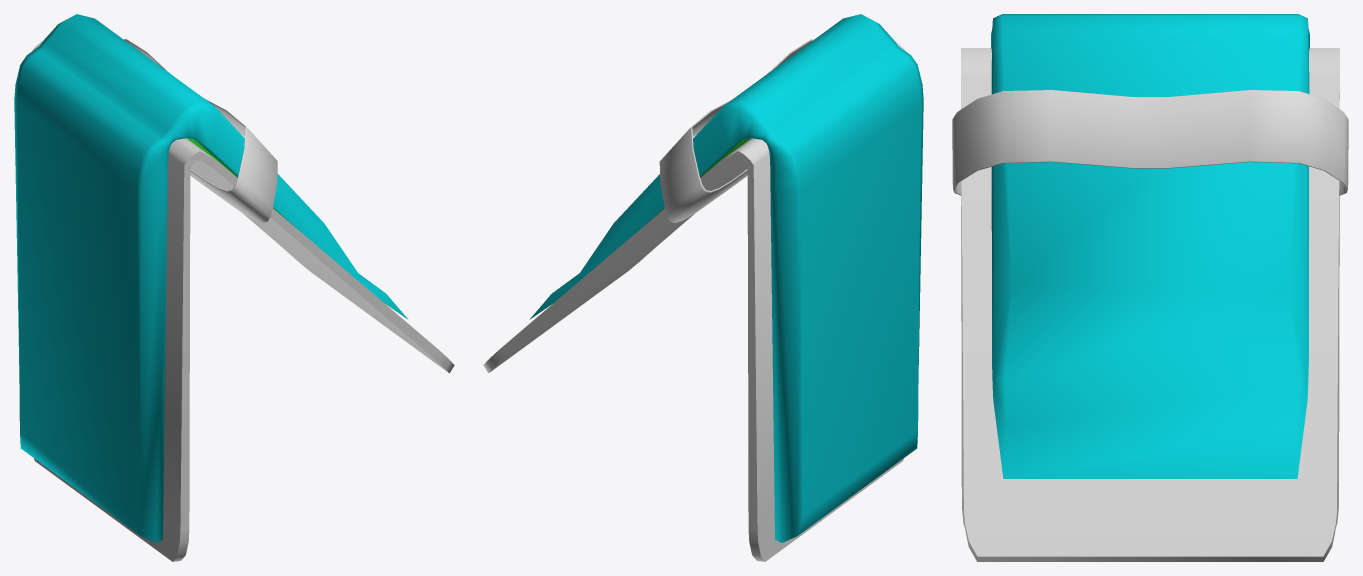
File: Notebook_Lo.fbx
3 renders of one model, left to right at view 1: azimuth 30°, elevation 25°; view 2: azimuth 150°, elevation 25°; view 3: azimuth 270°, elevation 25°, orthographic. The views are drawn at different scales.
Visible parts, largest first — view 1: Notebook_Lo, Cover_Lo, Band_lo; view 2: Notebook_Lo, Cover_Lo, Band_lo; view 3: Notebook_Lo, Cover_Lo, Band_lo.
Part boxes in pixels (box(x1,y1,x2,y2)): Notebook_Lo: box(14, 14, 408, 542); Cover_Lo: box(32, 41, 454, 561); Band_lo: box(124, 38, 277, 222); Notebook_Lo: box(529, 14, 923, 542); Cover_Lo: box(483, 41, 905, 561); Band_lo: box(659, 39, 813, 222); Notebook_Lo: box(991, 14, 1309, 478); Cover_Lo: box(961, 48, 1339, 561); Band_lo: box(952, 90, 1348, 195).
Size of the model in its own units: 102 by 142 by 92.4.
